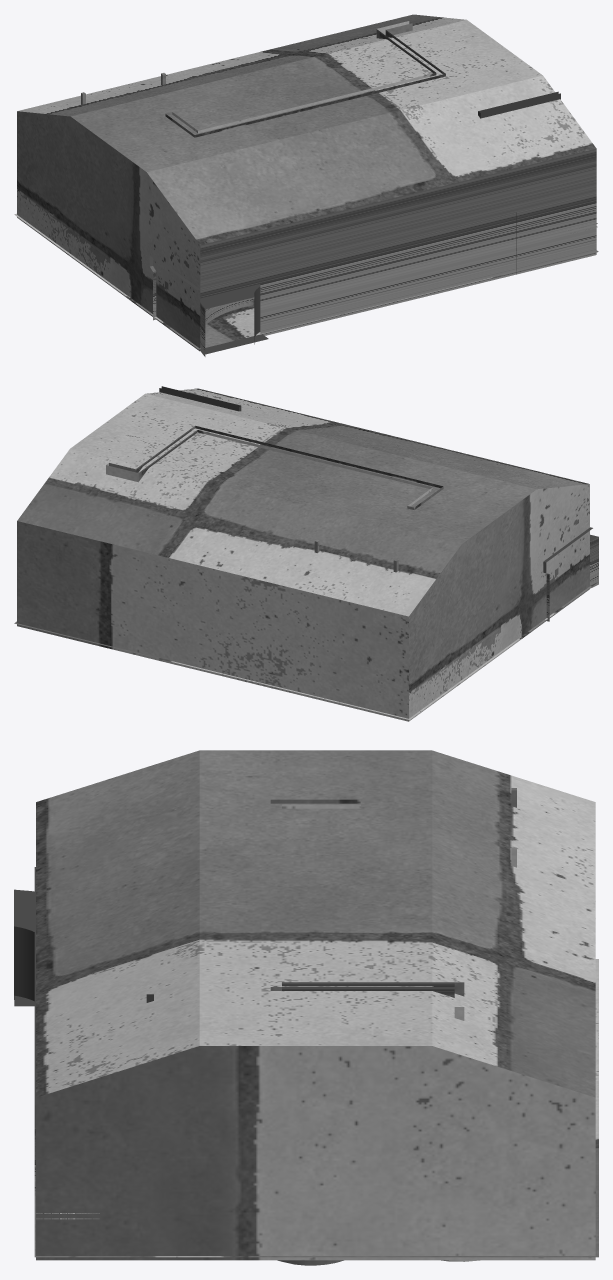
The model's file is Water Ride Collision.fbx.
3 renders of one model, top to bottom at view 1: azimuth 30°, elevation 25°; view 2: azimuth 150°, elevation 25°; view 3: azimuth 270°, elevation 25°, orthographic. The views are drawn at different scales.
Parts seen in each view (by area): view 1: Wood; view 2: Wood; view 3: Wood.
Part boxes in pixels (box(x1,y1,x2,y2)): Wood: box(14, 14, 598, 356); Wood: box(14, 386, 598, 721); Wood: box(14, 750, 598, 1265).
Size of the model in its own units: 5352 by 1927 by 4418.
